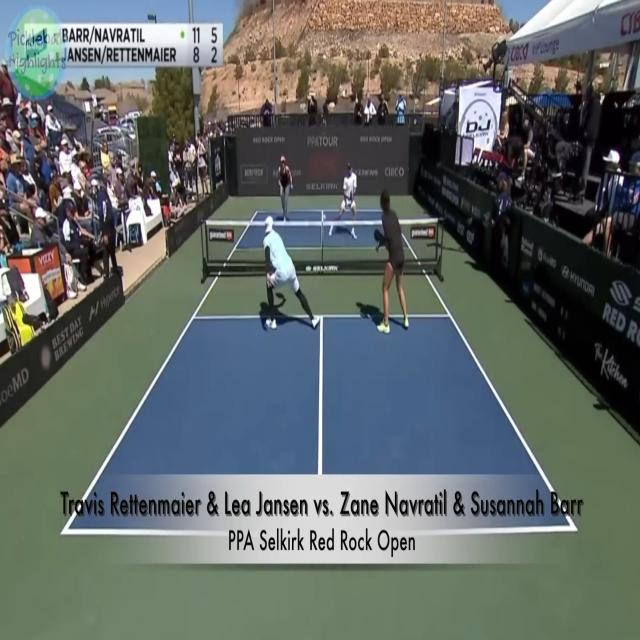ball: (322, 209, 328, 224)
